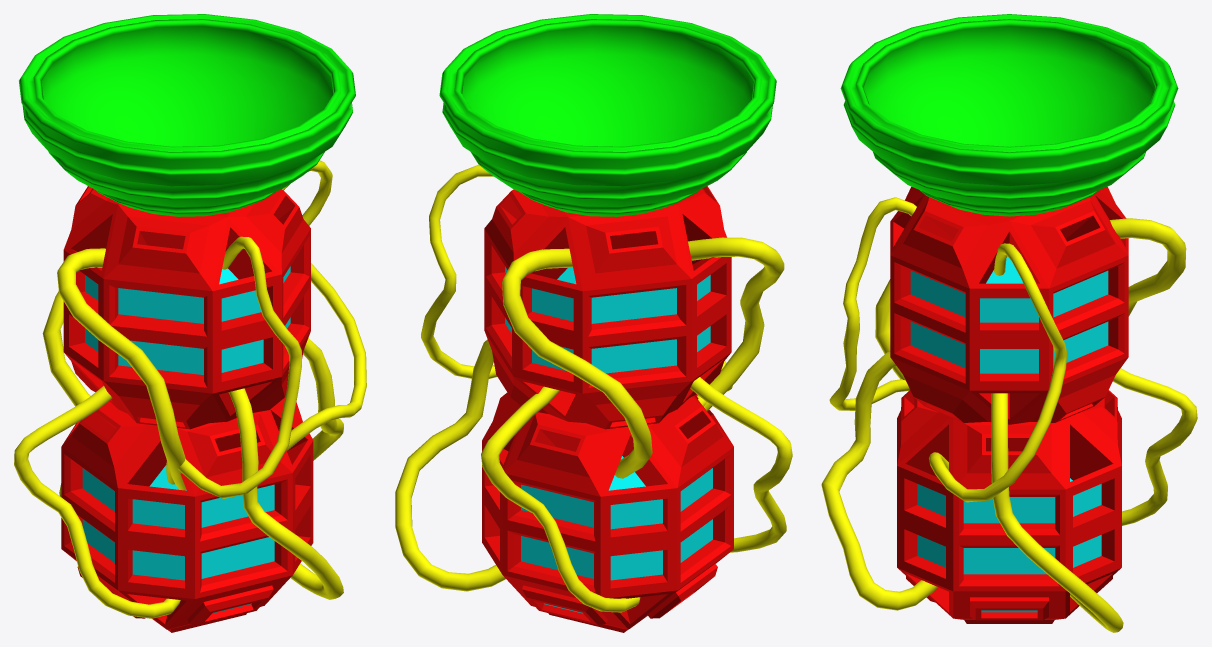
Rendered from sat_02.obj.
The picture shows the model from 3 angles, left to right: view 1: azimuth 30°, elevation 25°; view 2: azimuth 150°, elevation 25°; view 3: azimuth 270°, elevation 25°; orthographic projection.
Parts seen in each view (by area): view 1: sat_02 st_grp; view 2: sat_02 st_grp; view 3: sat_02 st_grp.
Boxes of the visible parts, x1,y1,x2,y2 form: sat_02 st_grp: [14, 14, 366, 632]; sat_02 st_grp: [395, 14, 792, 632]; sat_02 st_grp: [821, 14, 1197, 632].
Size of the model in its own units: 182 by 256 by 167.
